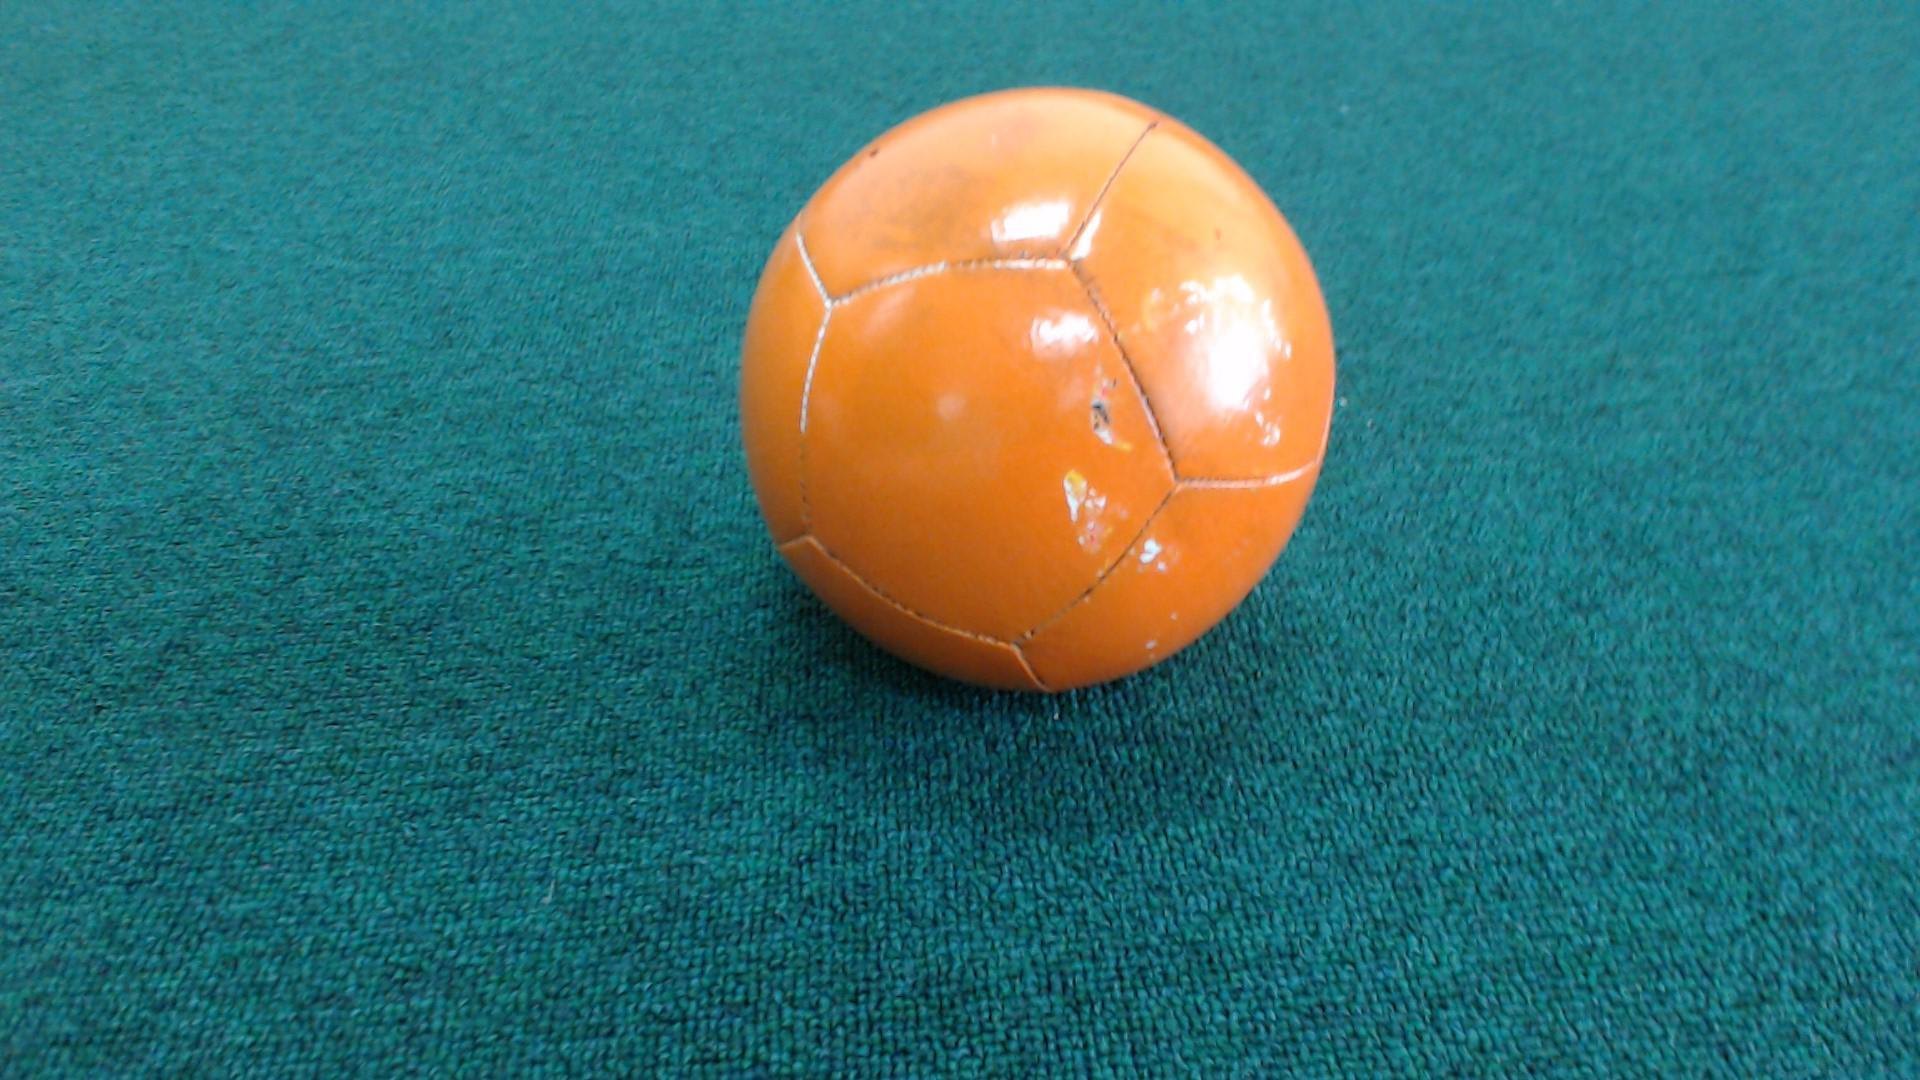bola: (728, 62, 1358, 705)
